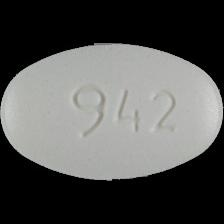0093-5142: (0, 0, 224, 224)
